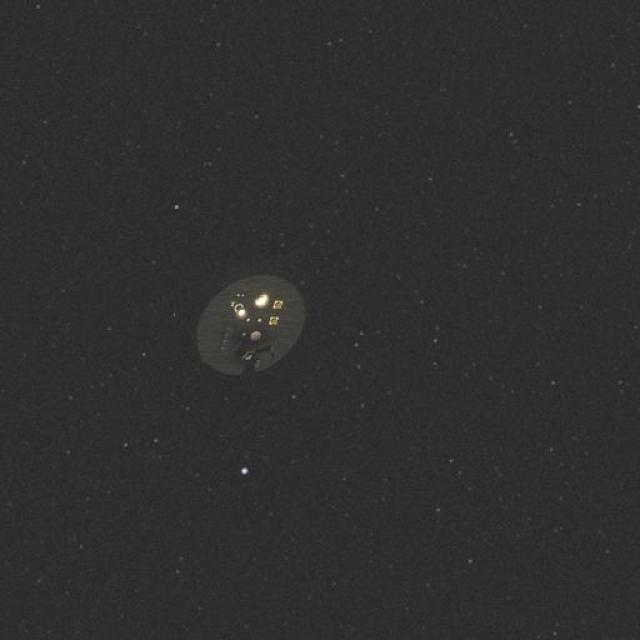proba_3_ocs: (153, 248, 324, 394)
